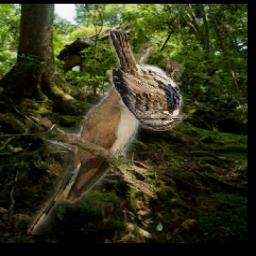Cuckoo: (28, 79, 149, 235)
Sparrow: (108, 30, 187, 132)
